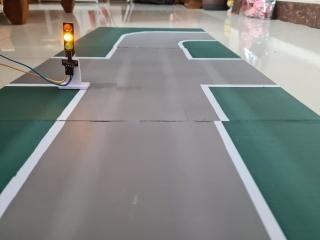yellow: (53, 15, 84, 61)
